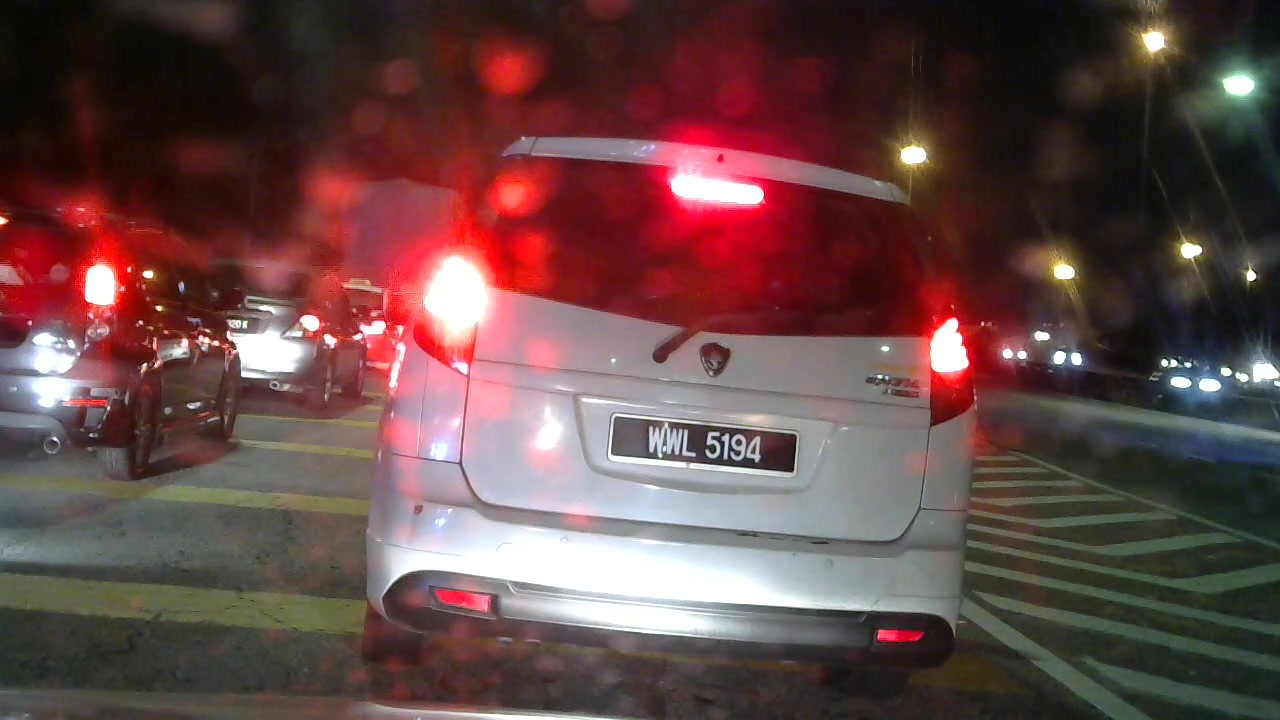Car: (400, 113, 980, 677), (1, 207, 256, 467), (207, 244, 372, 404)
